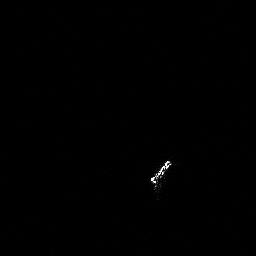ship: (148, 158, 174, 196)
